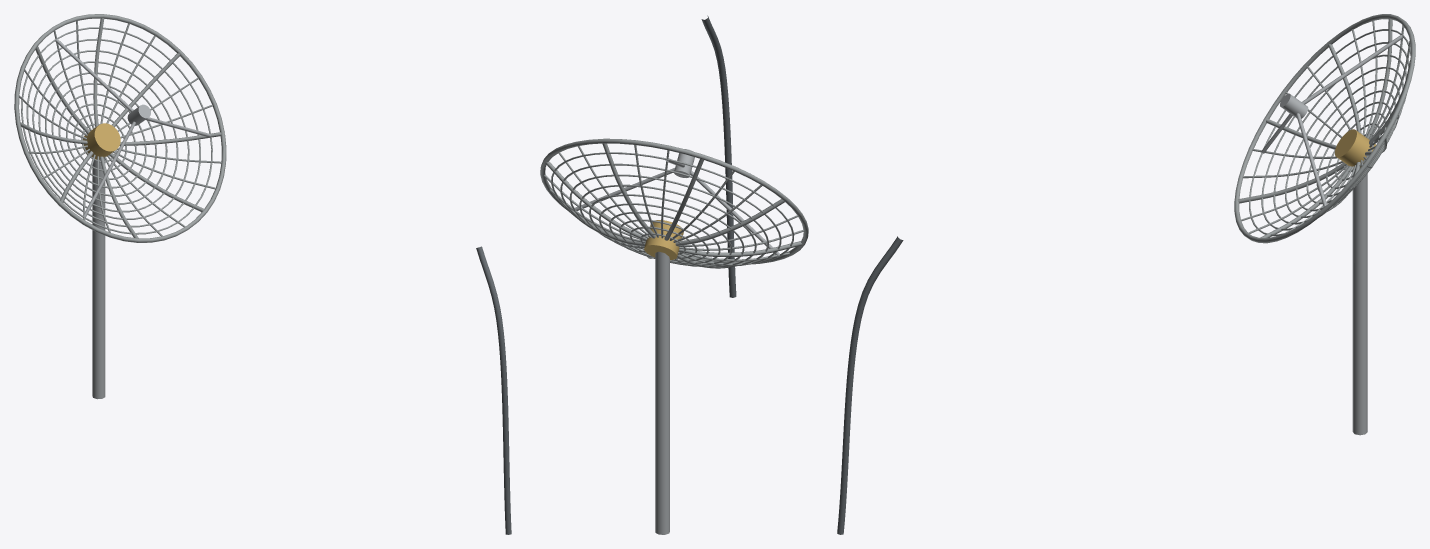
Rendered from lunar-camera.glb.
3 views of the same model, side by side, from view 1: azimuth 30°, elevation 25°; view 2: azimuth 150°, elevation 25°; view 3: azimuth 270°, elevation 25° (orthographic). The views are drawn at different scales.
Bounding box in the file's own units: 1.22 × 1.57 × 2.01.
